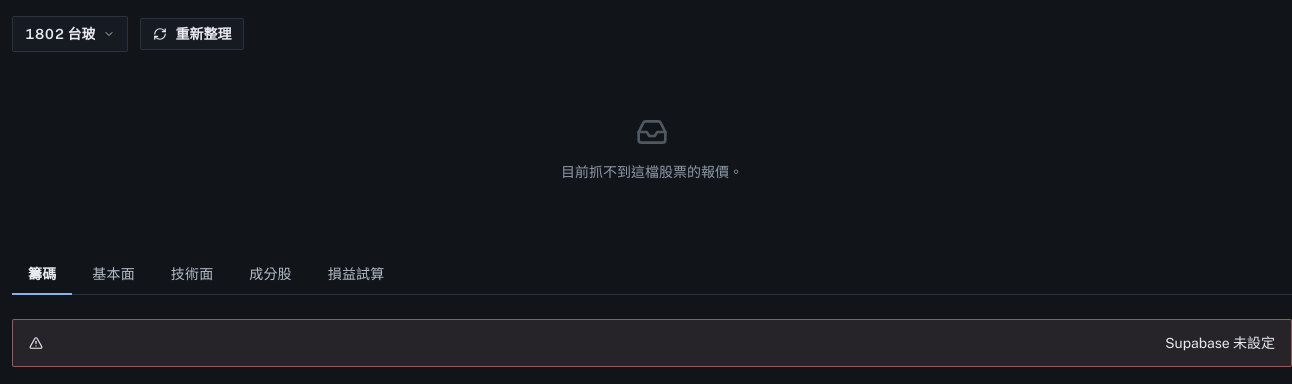
Test: AnalysisPage › 下拉分組列出持股與觀察，持股在前
The image size is (1292, 384).
Click the button with aria-label "切換個股".
click(70, 34)  # box [12,16,128,52]
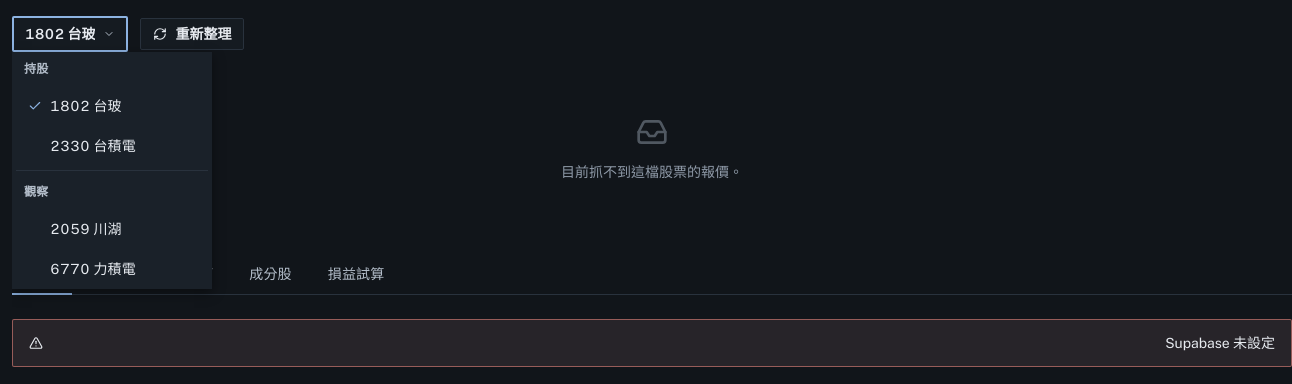
Check: the text "持股" is shown, box [24,62,48,76]
Check: the text "觀察" is shown, box [24,185,48,199]
